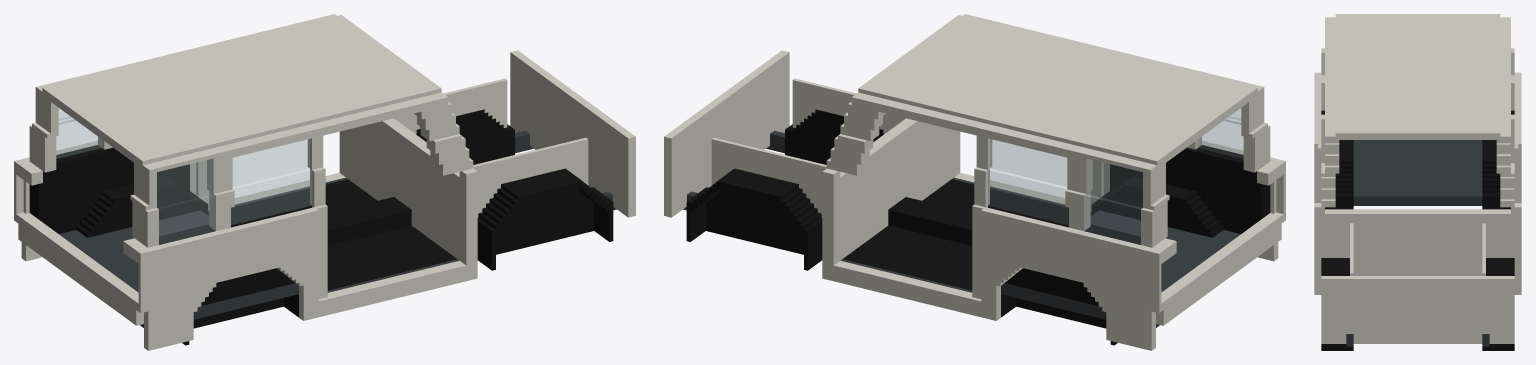
File: classic_4x4_shell.glb
3 views of the same model, side by side, from view 1: azimuth 30°, elevation 25°; view 2: azimuth 150°, elevation 25°; view 3: azimuth 270°, elevation 25° (orthographic). The views are drawn at different scales.
Parts seen in each view (by area): view 1: body:compound; view 2: body:compound; view 3: body:compound.
Part boxes in pixels (<box>): body:compound: <box>14,14,635,350</box>; body:compound: <box>664,14,1285,350</box>; body:compound: <box>1314,14,1521,350</box>.
Size of the model in its own units: 4.12 by 1.47 by 1.81.
